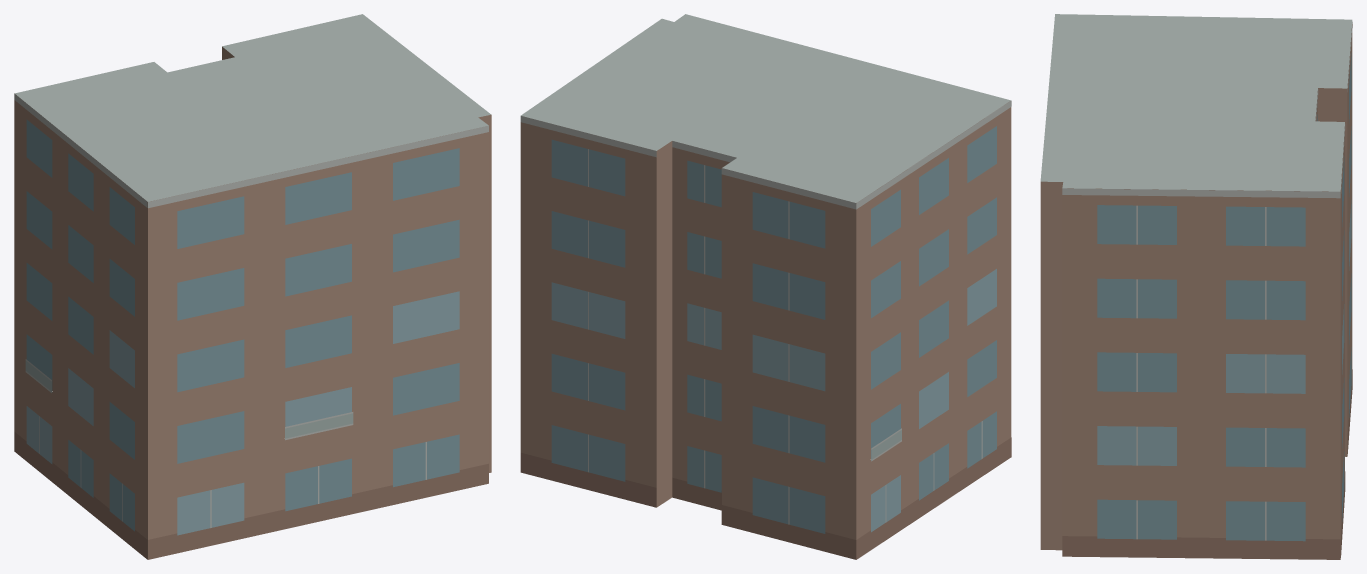
File: survey-upis-32653781.glb
3 views of the same model, side by side, from view 1: azimuth 30°, elevation 25°; view 2: azimuth 150°, elevation 25°; view 3: azimuth 270°, elevation 25° (orthographic). The views are drawn at different scales.
Visible parts, largest first — view 1: survey-upis-32653781.tmp; view 2: survey-upis-32653781.tmp; view 3: survey-upis-32653781.tmp.
Boxes of the visible parts, bbox=[...] form: survey-upis-32653781.tmp: bbox=[14, 14, 491, 559]; survey-upis-32653781.tmp: bbox=[520, 14, 1011, 559]; survey-upis-32653781.tmp: bbox=[1040, 14, 1352, 559].
Bounding box in the file's own units: 14.07 × 13.6 × 10.45.
